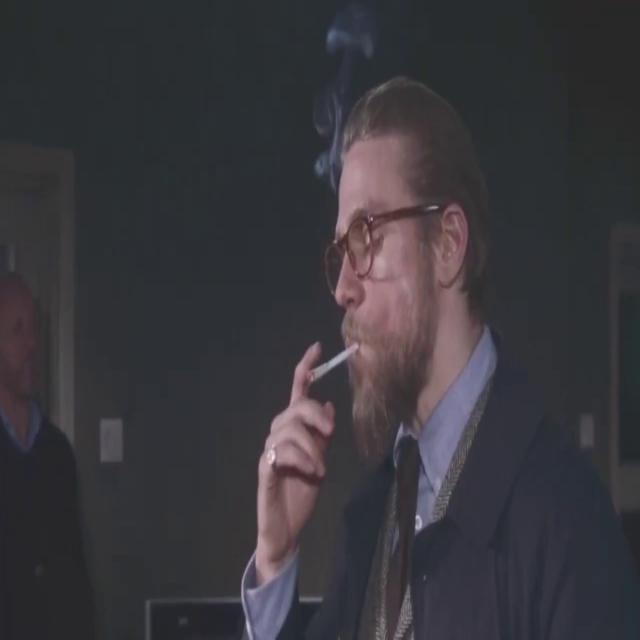Smooking: (306, 337, 362, 392)
